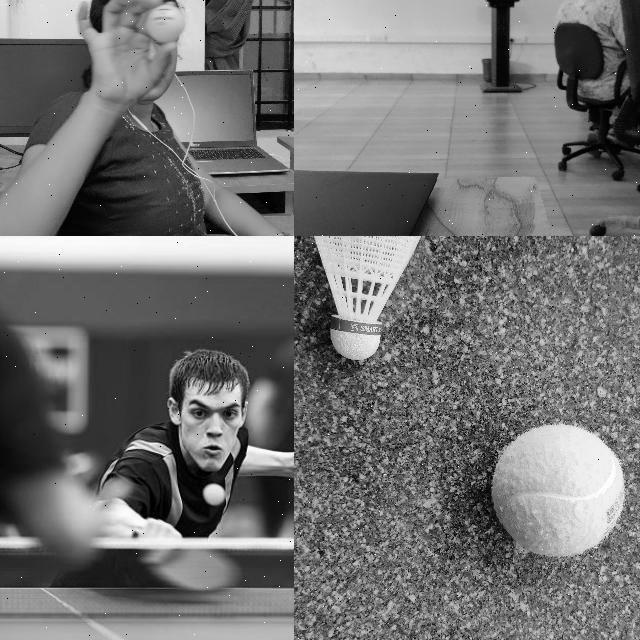ping-pong-ball: (146, 7, 184, 41), (203, 484, 224, 506)
